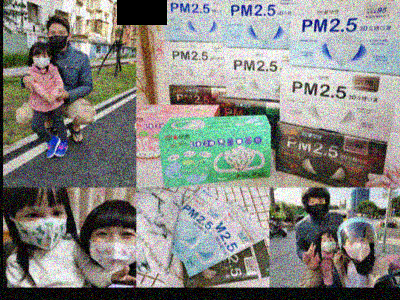with_mask: (14, 204, 68, 250), (87, 226, 137, 272), (343, 238, 372, 262), (48, 28, 68, 50), (307, 197, 328, 217), (32, 53, 50, 69), (320, 236, 336, 253)
